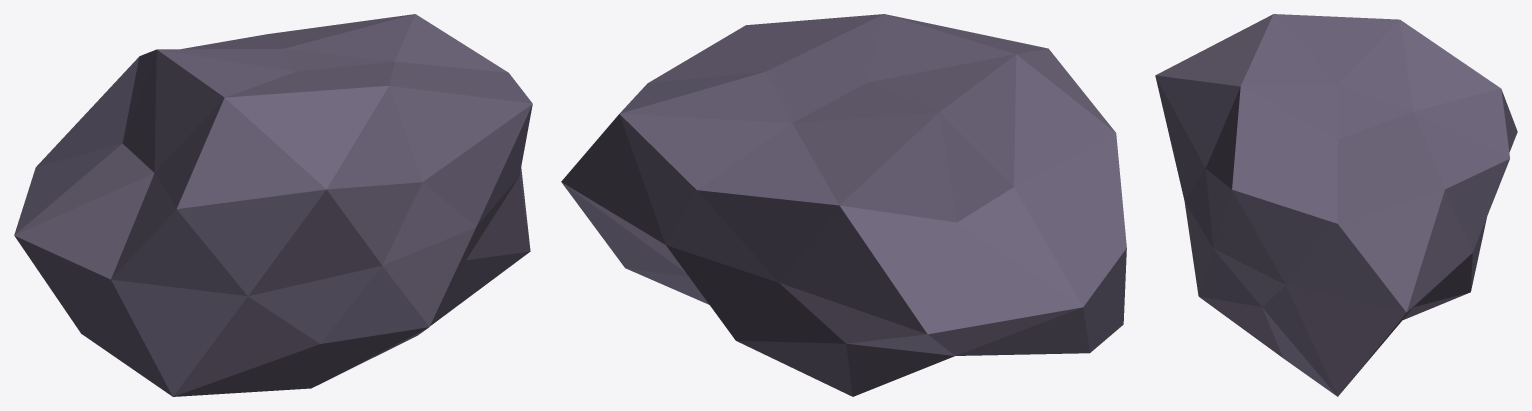
File: asteroid.glb
3 renders of one model, left to right at view 1: azimuth 30°, elevation 25°; view 2: azimuth 150°, elevation 25°; view 3: azimuth 270°, elevation 25°, orthographic. The views are drawn at different scales.
Visible parts, largest first — view 1: asteroid; view 2: asteroid; view 3: asteroid.
Boxes of the visible parts, x1,y1,x2,y2 form: asteroid: [14, 14, 532, 396]; asteroid: [561, 14, 1126, 396]; asteroid: [1155, 14, 1517, 396].
Bounding box in the file's own units: 6.67 × 3.76 × 4.68.
